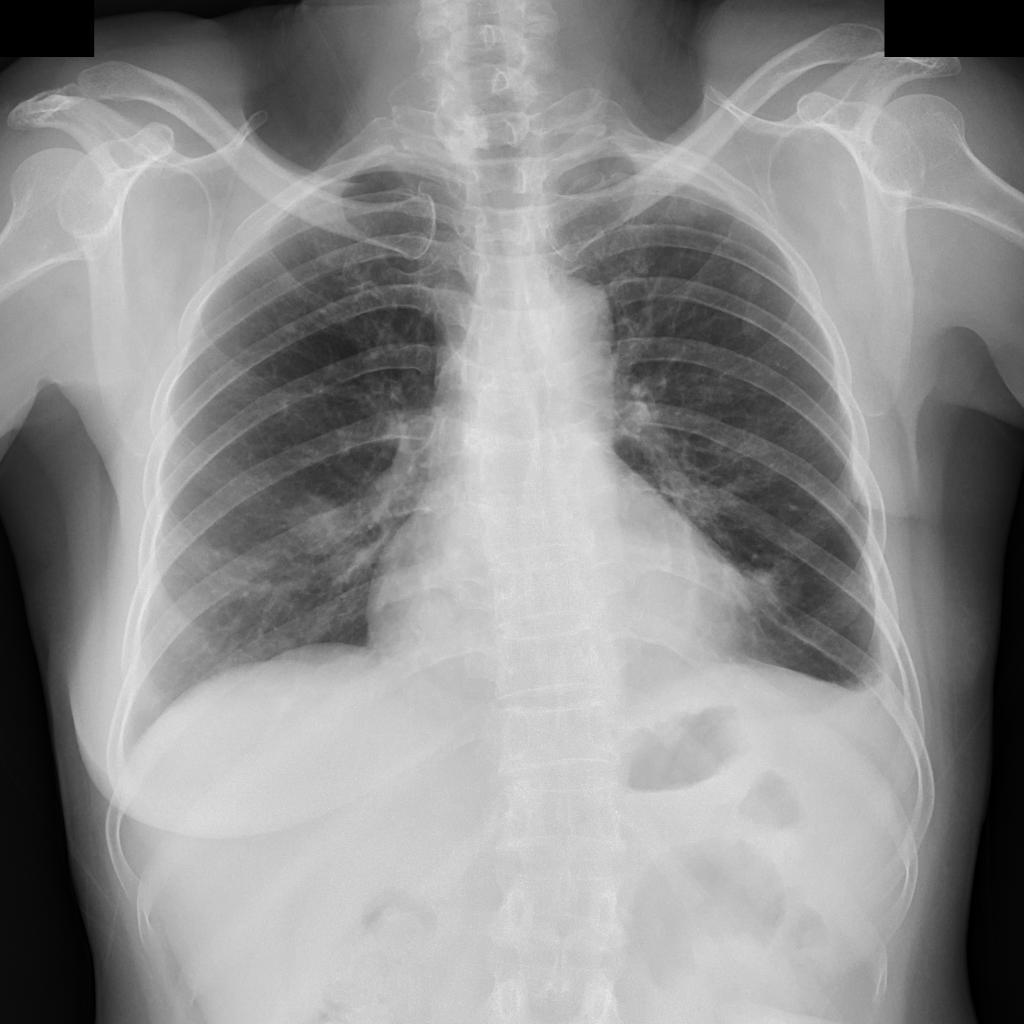Nodule: (291, 497, 351, 558), (755, 554, 806, 609), (628, 250, 656, 273), (691, 197, 716, 219), (739, 272, 762, 295), (742, 313, 766, 334), (713, 225, 730, 244)
